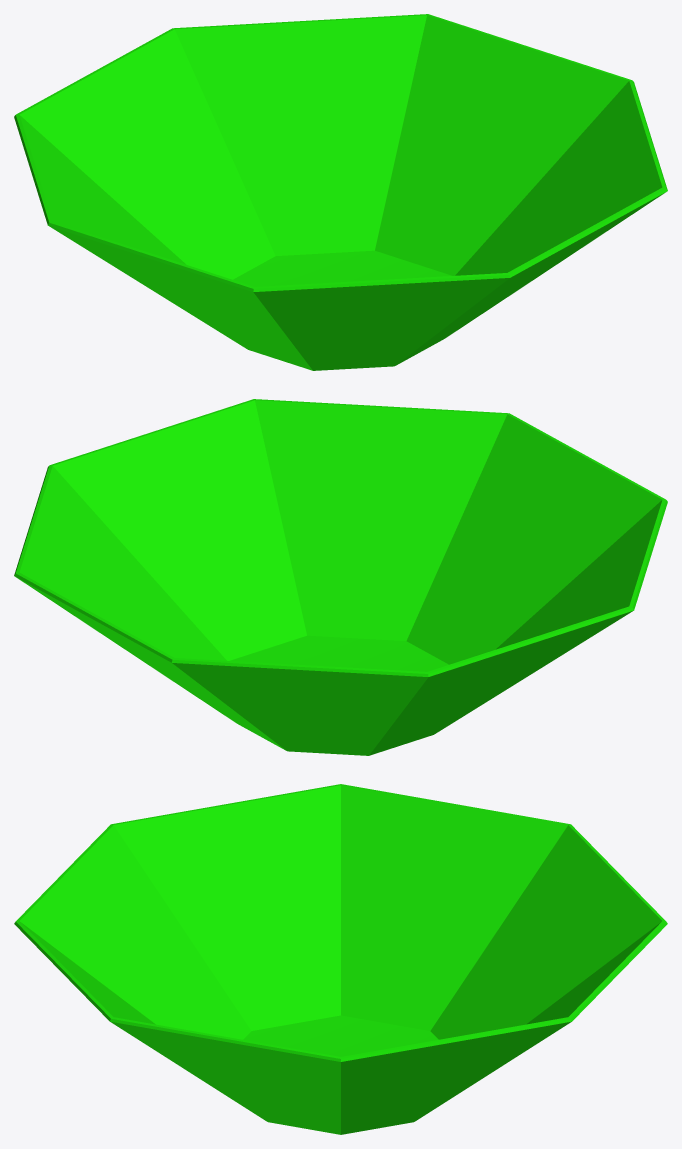
The model's file is komono18.fbx.
3 views of the same model, one above another, from view 1: azimuth 30°, elevation 25°; view 2: azimuth 150°, elevation 25°; view 3: azimuth 270°, elevation 25° (orthographic). The views are drawn at different scales.
Parts seen in each view (by area): view 1: Sphere.001; view 2: Sphere.001; view 3: Sphere.001.
Part boxes in pixels (x1=…): Sphere.001: x1=14, y1=14, x2=667, y2=370; Sphere.001: x1=14, y1=399, x2=667, y2=755; Sphere.001: x1=14, y1=784, x2=667, y2=1134.
Size of the model in its own units: 169 by 49.87 by 169.
